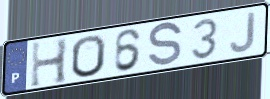3: (187, 17, 221, 61)
6: (113, 26, 142, 73)
H: (29, 36, 70, 90)
J: (228, 10, 257, 54)
O: (70, 34, 108, 80)
S: (146, 20, 185, 70)
